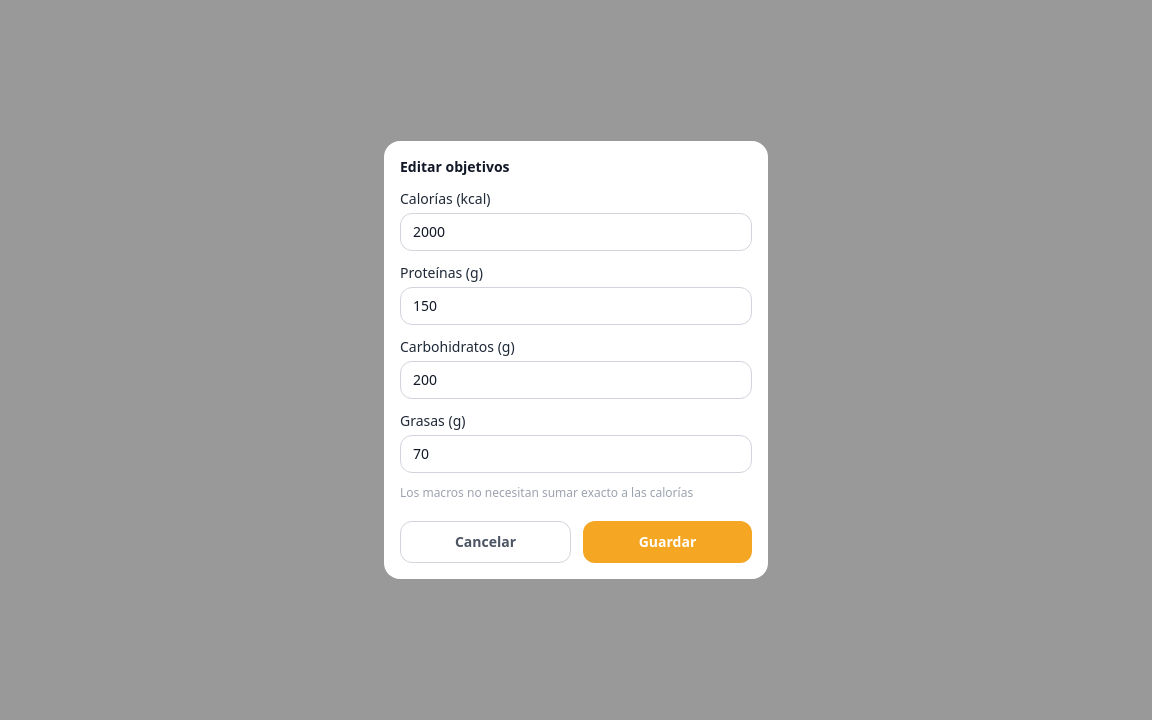
Test: GoalEditorSheet › blocks submit and shows a Spanish error when a value is negative
This screenshot has width=1152, height=720.
Replace the text in the number field labelled "Calorías (kcal)" with "-5": (576, 232) [400,213,752,251]
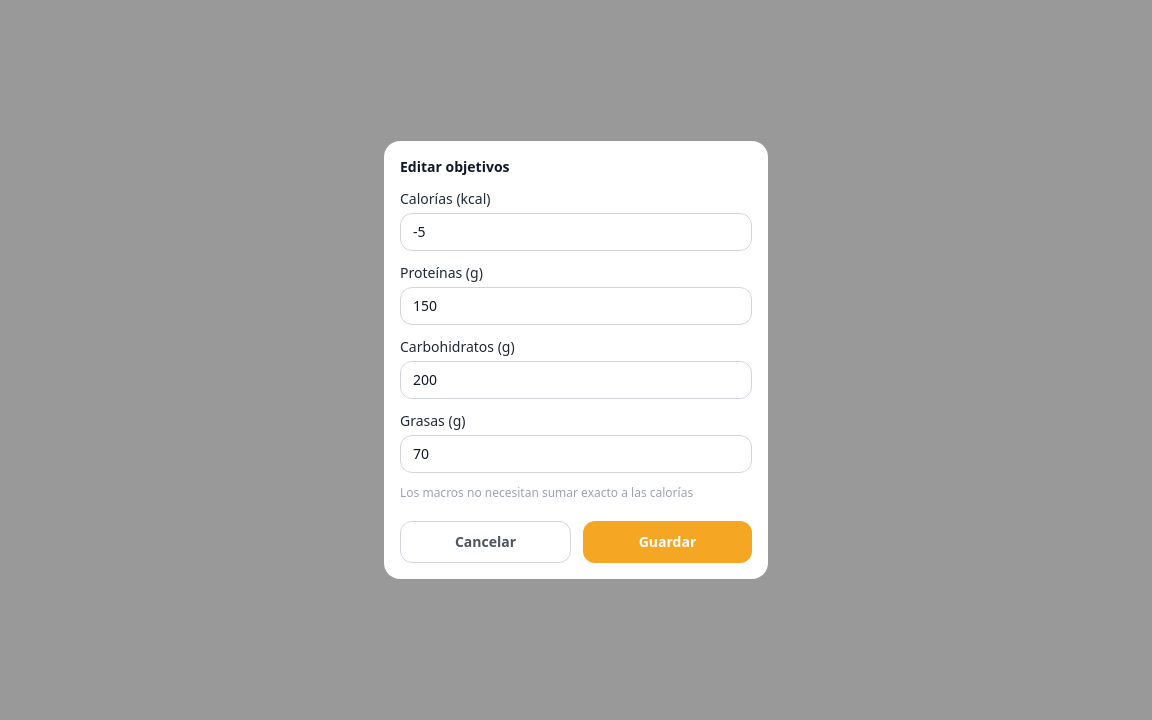
Click the button "Guardar": (668, 542) [583,521,752,563]
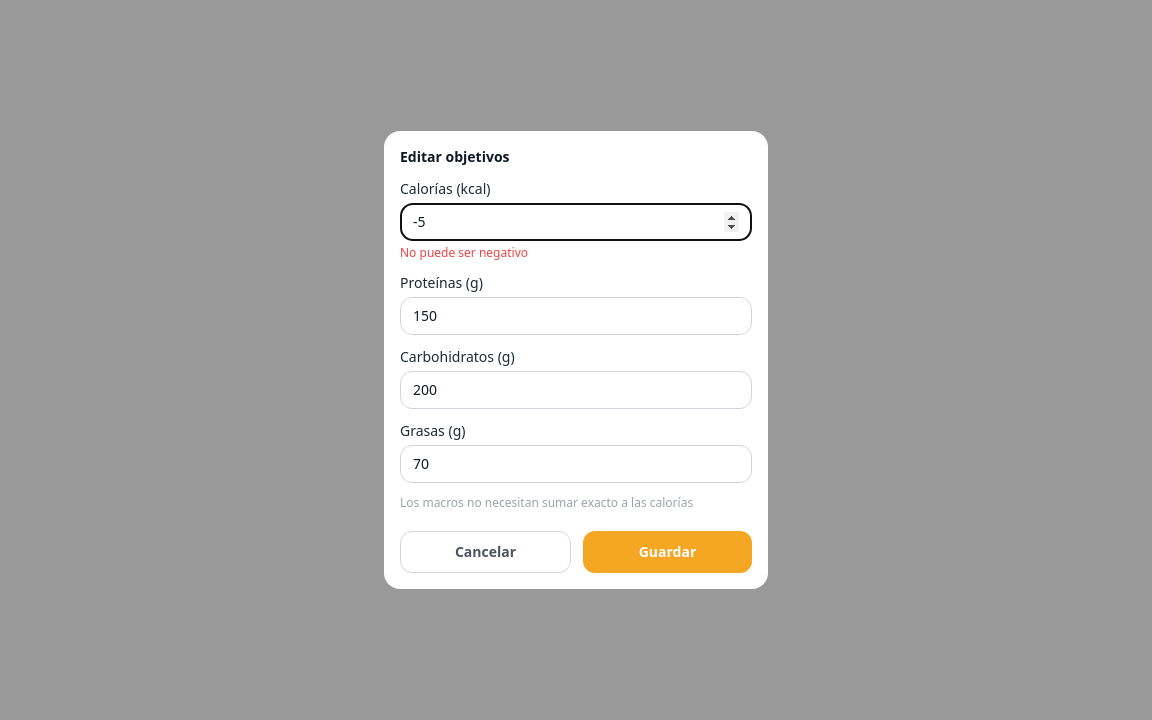
Expected: the text "No puede ser negativo" is shown, [400,244,528,261]
